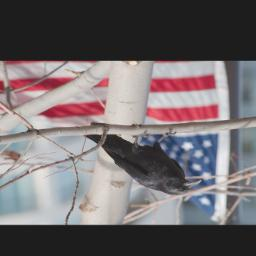Crow: (80, 125, 203, 196)
